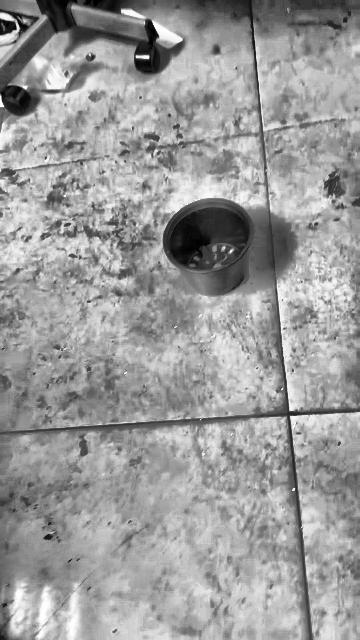pot: (163, 199, 252, 296)
